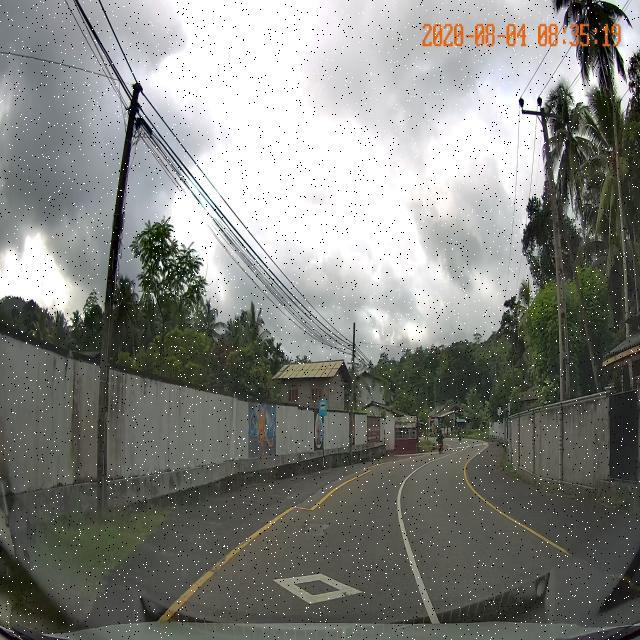diamond: (149, 558, 449, 624)
